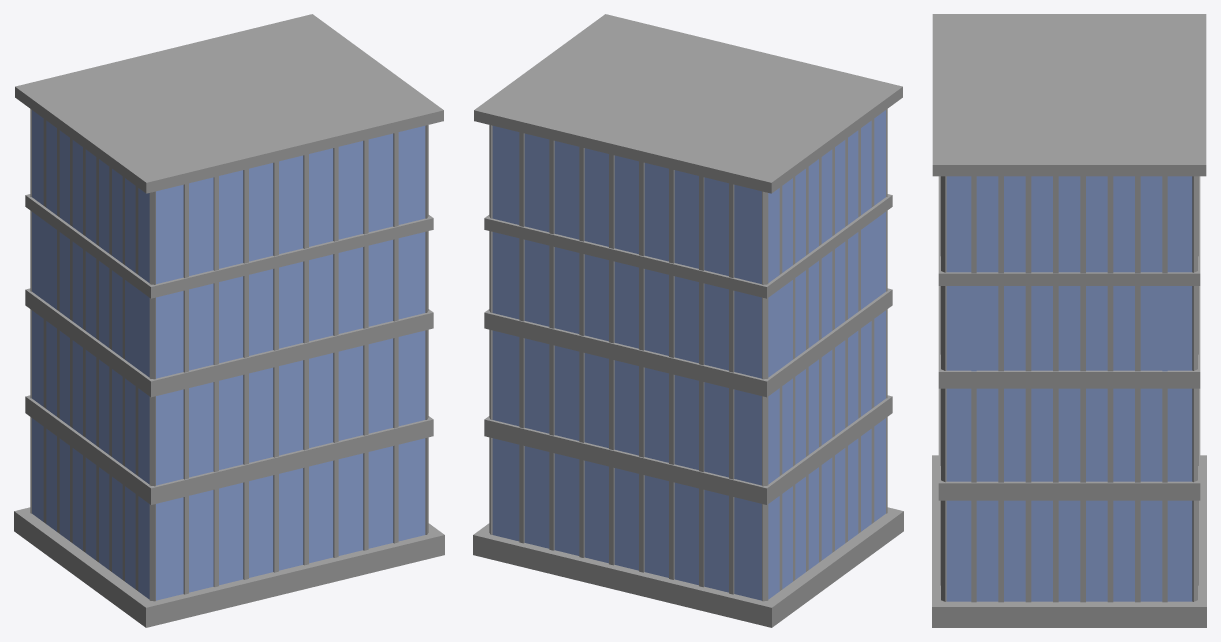
File: Tower4.fbx
The picture shows the model from 3 angles, left to right: view 1: azimuth 30°, elevation 25°; view 2: azimuth 150°, elevation 25°; view 3: azimuth 270°, elevation 25°; orthographic projection. The views are drawn at different scales.
Parts seen in each view (by area): view 1: Tower4; view 2: Tower4; view 3: Tower4.
Part boxes in pixels (box(x1,y1,x2,y2)): Tower4: box(14, 14, 444, 627); Tower4: box(473, 14, 903, 627); Tower4: box(932, 14, 1206, 627).
Size of the model in its own units: 322 by 458 by 246.
